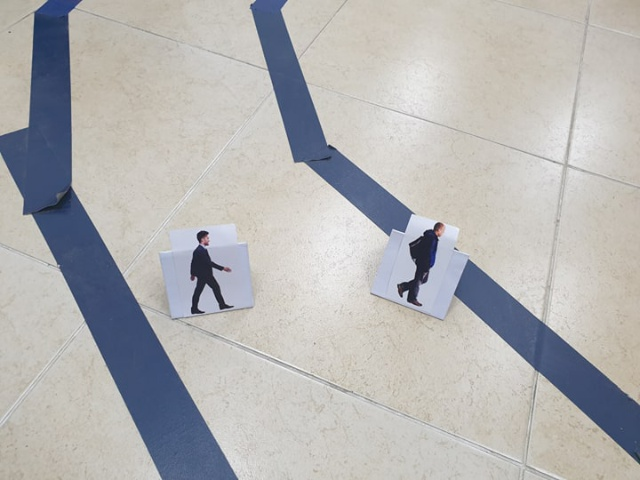Person: (182, 229, 234, 314), (399, 220, 446, 307)
